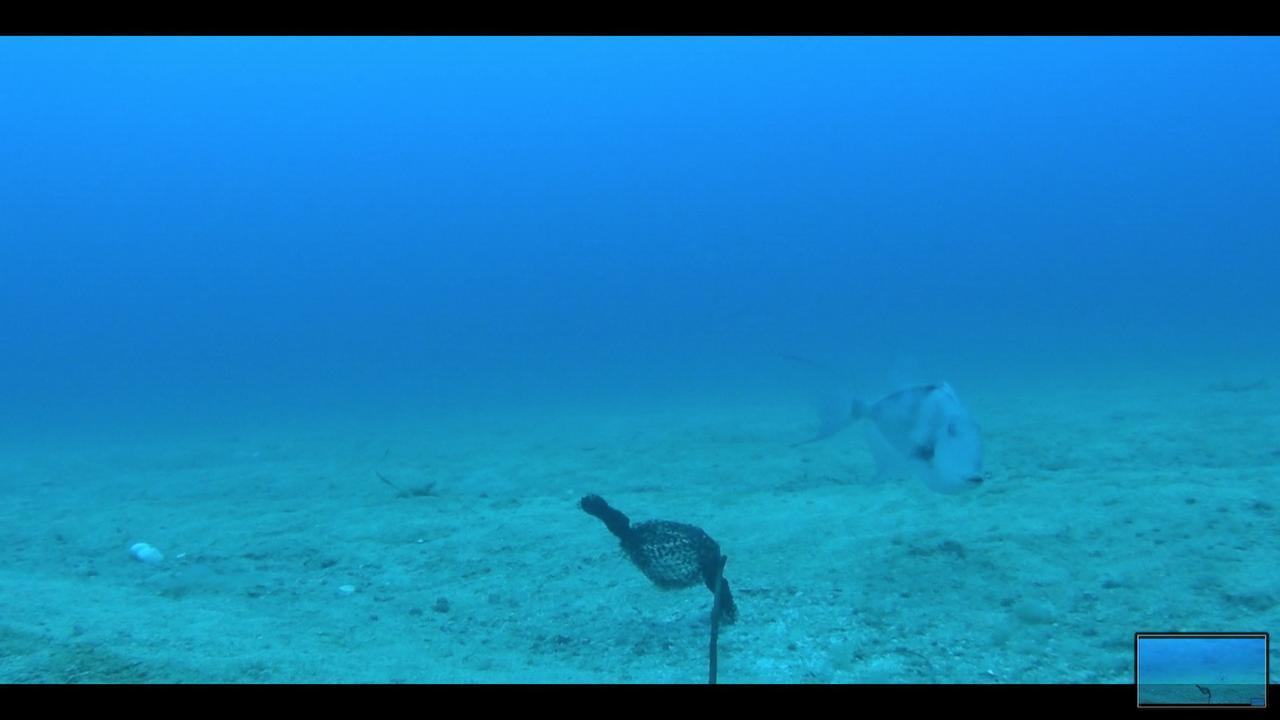balistes: (779, 348, 986, 498)
